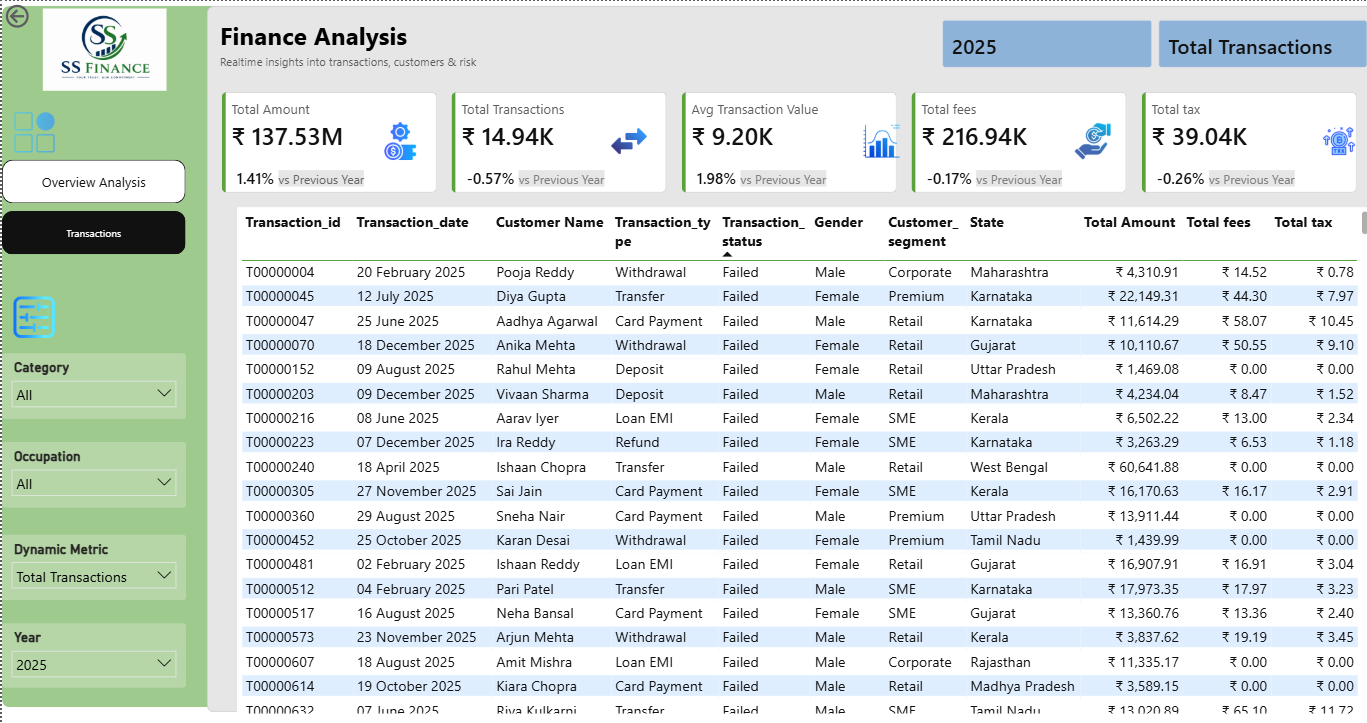

The dashboard page shown, as its layout file describes it:
{"tool":"powerbi","page":{"name":"Transactions","canvas":[1800,950],"ordinal":1},"visuals":[{"type":"shape","box":[0,6.6,316.8,920.8],"z":0},{"type":"shape","box":[269.2,6.6,1531.4,927.4],"z":1000},{"type":"cardVisual","fields":{"Data":["finance_transactions.Total Amount","finance_transactions.Total Transactions","finance_transactions.Avg Transaction Value","finance_transactions.Total fees","finance_transactions.Total tax"]},"box":[282.3,113.3,1505.1,144.4],"z":2000},{"type":"image","box":[497.3,159.2,50.9,49.2],"z":3000},{"type":"image","box":[797.7,159.2,50.9,49.2],"z":4000},{"type":"image","box":[1406.6,159.2,50.9,49.2],"z":5000},{"type":"image","box":[1730,159.2,50.9,49.2],"z":6000},{"type":"image","box":[1129.2,159.2,50.9,49.2],"z":7000},{"type":"cardVisual","fields":{"Data":["finance_transactions.Dashboard Title"]},"box":[269.2,0,407.1,113.3],"z":8000},{"type":"cardVisual","fields":{"Data":["finance_transactions.Selected Year","finance_transactions.Selected Dynamic Measure"]},"box":[1229.4,19.7,571.2,73.9],"z":9000},{"type":"shape","box":[308.6,270.8,1492,669.7],"z":10000},{"type":"tableEx","fields":{"Values":["finance_transactions.transaction_id","finance_transactions.transaction_date","customers.Customer Name","finance_transactions.transaction_type","finance_transactions.transaction_status","customers.gender","customers.customer_segment","customers.state","finance_transactions.Total Amount","finance_transactions.Total fees","finance_transactions.Total tax"]},"box":[308.6,270.8,1492,669.7],"z":11000},{"type":"actionButton","box":[0,0,100,40],"z":12000},{"type":"image","box":[13.1,146.1,59.1,52.5],"z":13000},{"type":"image","box":[0,9.8,269.2,108.3],"z":14000},{"type":"image","box":[0,384.1,85.3,62.4],"z":15000},{"type":"slicer","fields":{"Values":["finance_transactions.merchant_category"]},"box":[0,462.9,241.3,85.3],"z":16000},{"type":"pageNavigator","box":[0,208.4,241.3,124.7],"z":17000},{"type":"slicer","fields":{"Values":["customers.occupation"]},"box":[0,579.4,241.3,85.3],"z":18000},{"type":"slicer","fields":{"Values":["Dynamic Metric.Dynamic Metric"]},"box":[0,700.9,241.3,85.3],"z":19000},{"type":"slicer","fields":{"Values":["Calendar Table.Year"]},"box":[0,817.4,241.3,83.7],"z":20000}]}

Visuals, with their boxes on the page's 1800x950 design canvas (x1, y1, x2, y2). These are canvas units, not pixel positions in the 1367x723 screenshot, which may show the page scaled, cropped or inside an application window:
shape: bbox(0, 7, 317, 927)
shape: bbox(269, 7, 1801, 934)
cardVisual - finance_transactions.Total Amount x finance_transactions.Total Transactions: bbox(282, 113, 1787, 258)
image: bbox(497, 159, 548, 208)
image: bbox(798, 159, 849, 208)
image: bbox(1407, 159, 1458, 208)
image: bbox(1730, 159, 1781, 208)
image: bbox(1129, 159, 1180, 208)
cardVisual - finance_transactions.Dashboard Title: bbox(269, 0, 676, 113)
cardVisual - finance_transactions.Selected Year x finance_transactions.Selected Dynamic Measure: bbox(1229, 20, 1801, 94)
shape: bbox(309, 271, 1801, 940)
tableEx - finance_transactions.transaction_id x finance_transactions.transaction_date: bbox(309, 271, 1801, 940)
actionButton: bbox(0, 0, 100, 40)
image: bbox(13, 146, 72, 199)
image: bbox(0, 10, 269, 118)
image: bbox(0, 384, 85, 446)
slicer - finance_transactions.merchant_category: bbox(0, 463, 241, 548)
pageNavigator: bbox(0, 208, 241, 333)
slicer - customers.occupation: bbox(0, 579, 241, 665)
slicer - Dynamic Metric.Dynamic Metric: bbox(0, 701, 241, 786)
slicer - Calendar Table.Year: bbox(0, 817, 241, 901)
